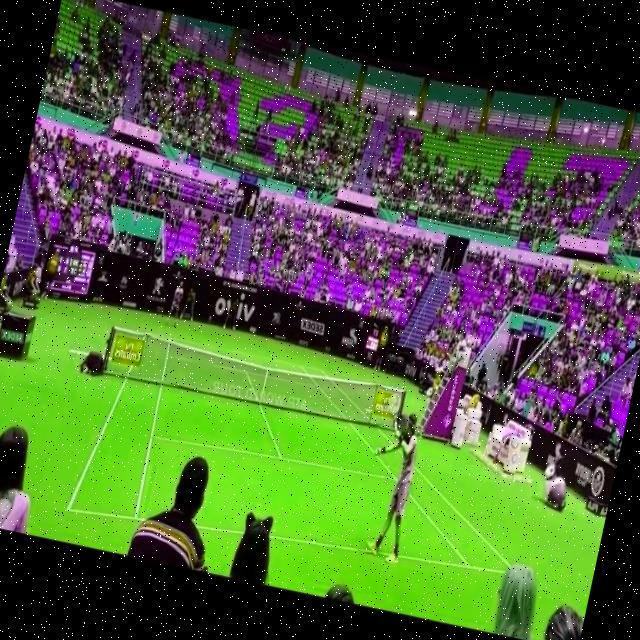court: (64, 324, 547, 606)
net: (99, 324, 409, 439)
player: (351, 404, 428, 566)
